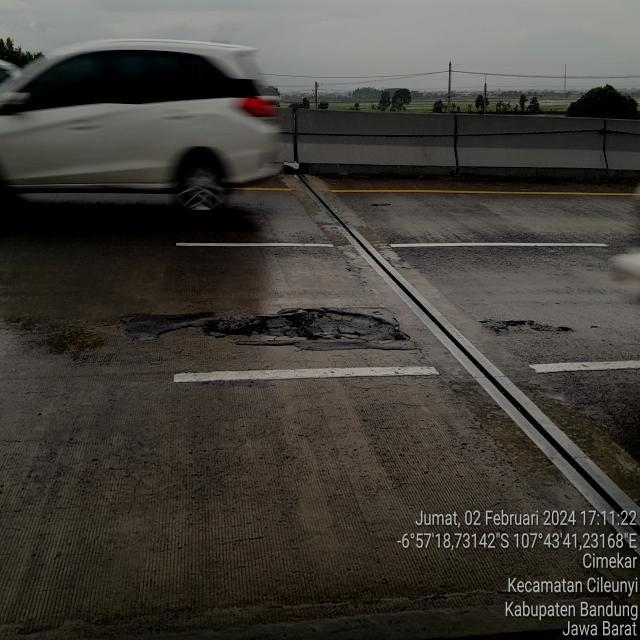Buraco: (113, 305, 415, 348), (474, 317, 576, 339)
